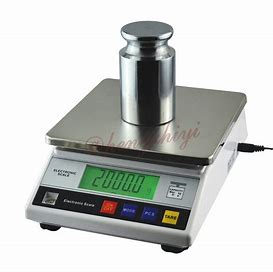Industrial Scale: (25, 77, 249, 254)
